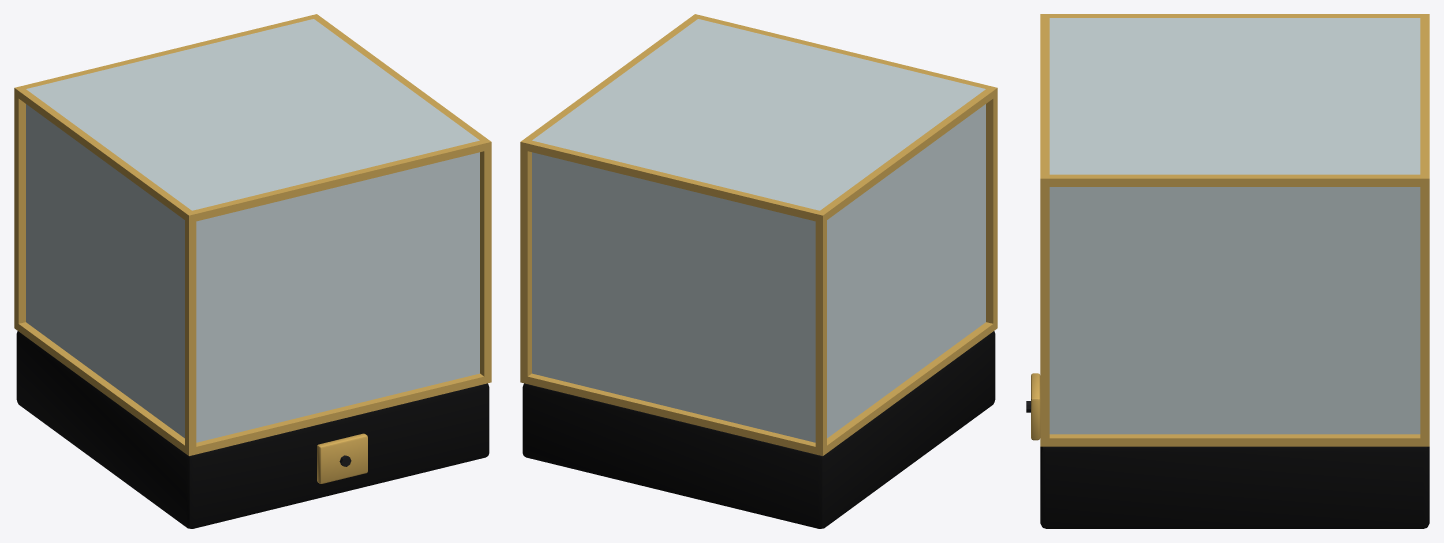
Rendered from meridian_display_case.glb.
3 renders of one model, left to right at view 1: azimuth 30°, elevation 25°; view 2: azimuth 150°, elevation 25°; view 3: azimuth 270°, elevation 25°, orthographic. The views are drawn at different scales.
Visible parts, largest first — view 1: meridian_display_case; view 2: meridian_display_case; view 3: meridian_display_case.
Part boxes in pixels (x1,y1,x2,y2): meridian_display_case: [14, 14, 491, 528]; meridian_display_case: [520, 14, 997, 528]; meridian_display_case: [1026, 14, 1429, 528].
Bounding box in the file's own units: 0.5 × 0.5 × 0.518.
